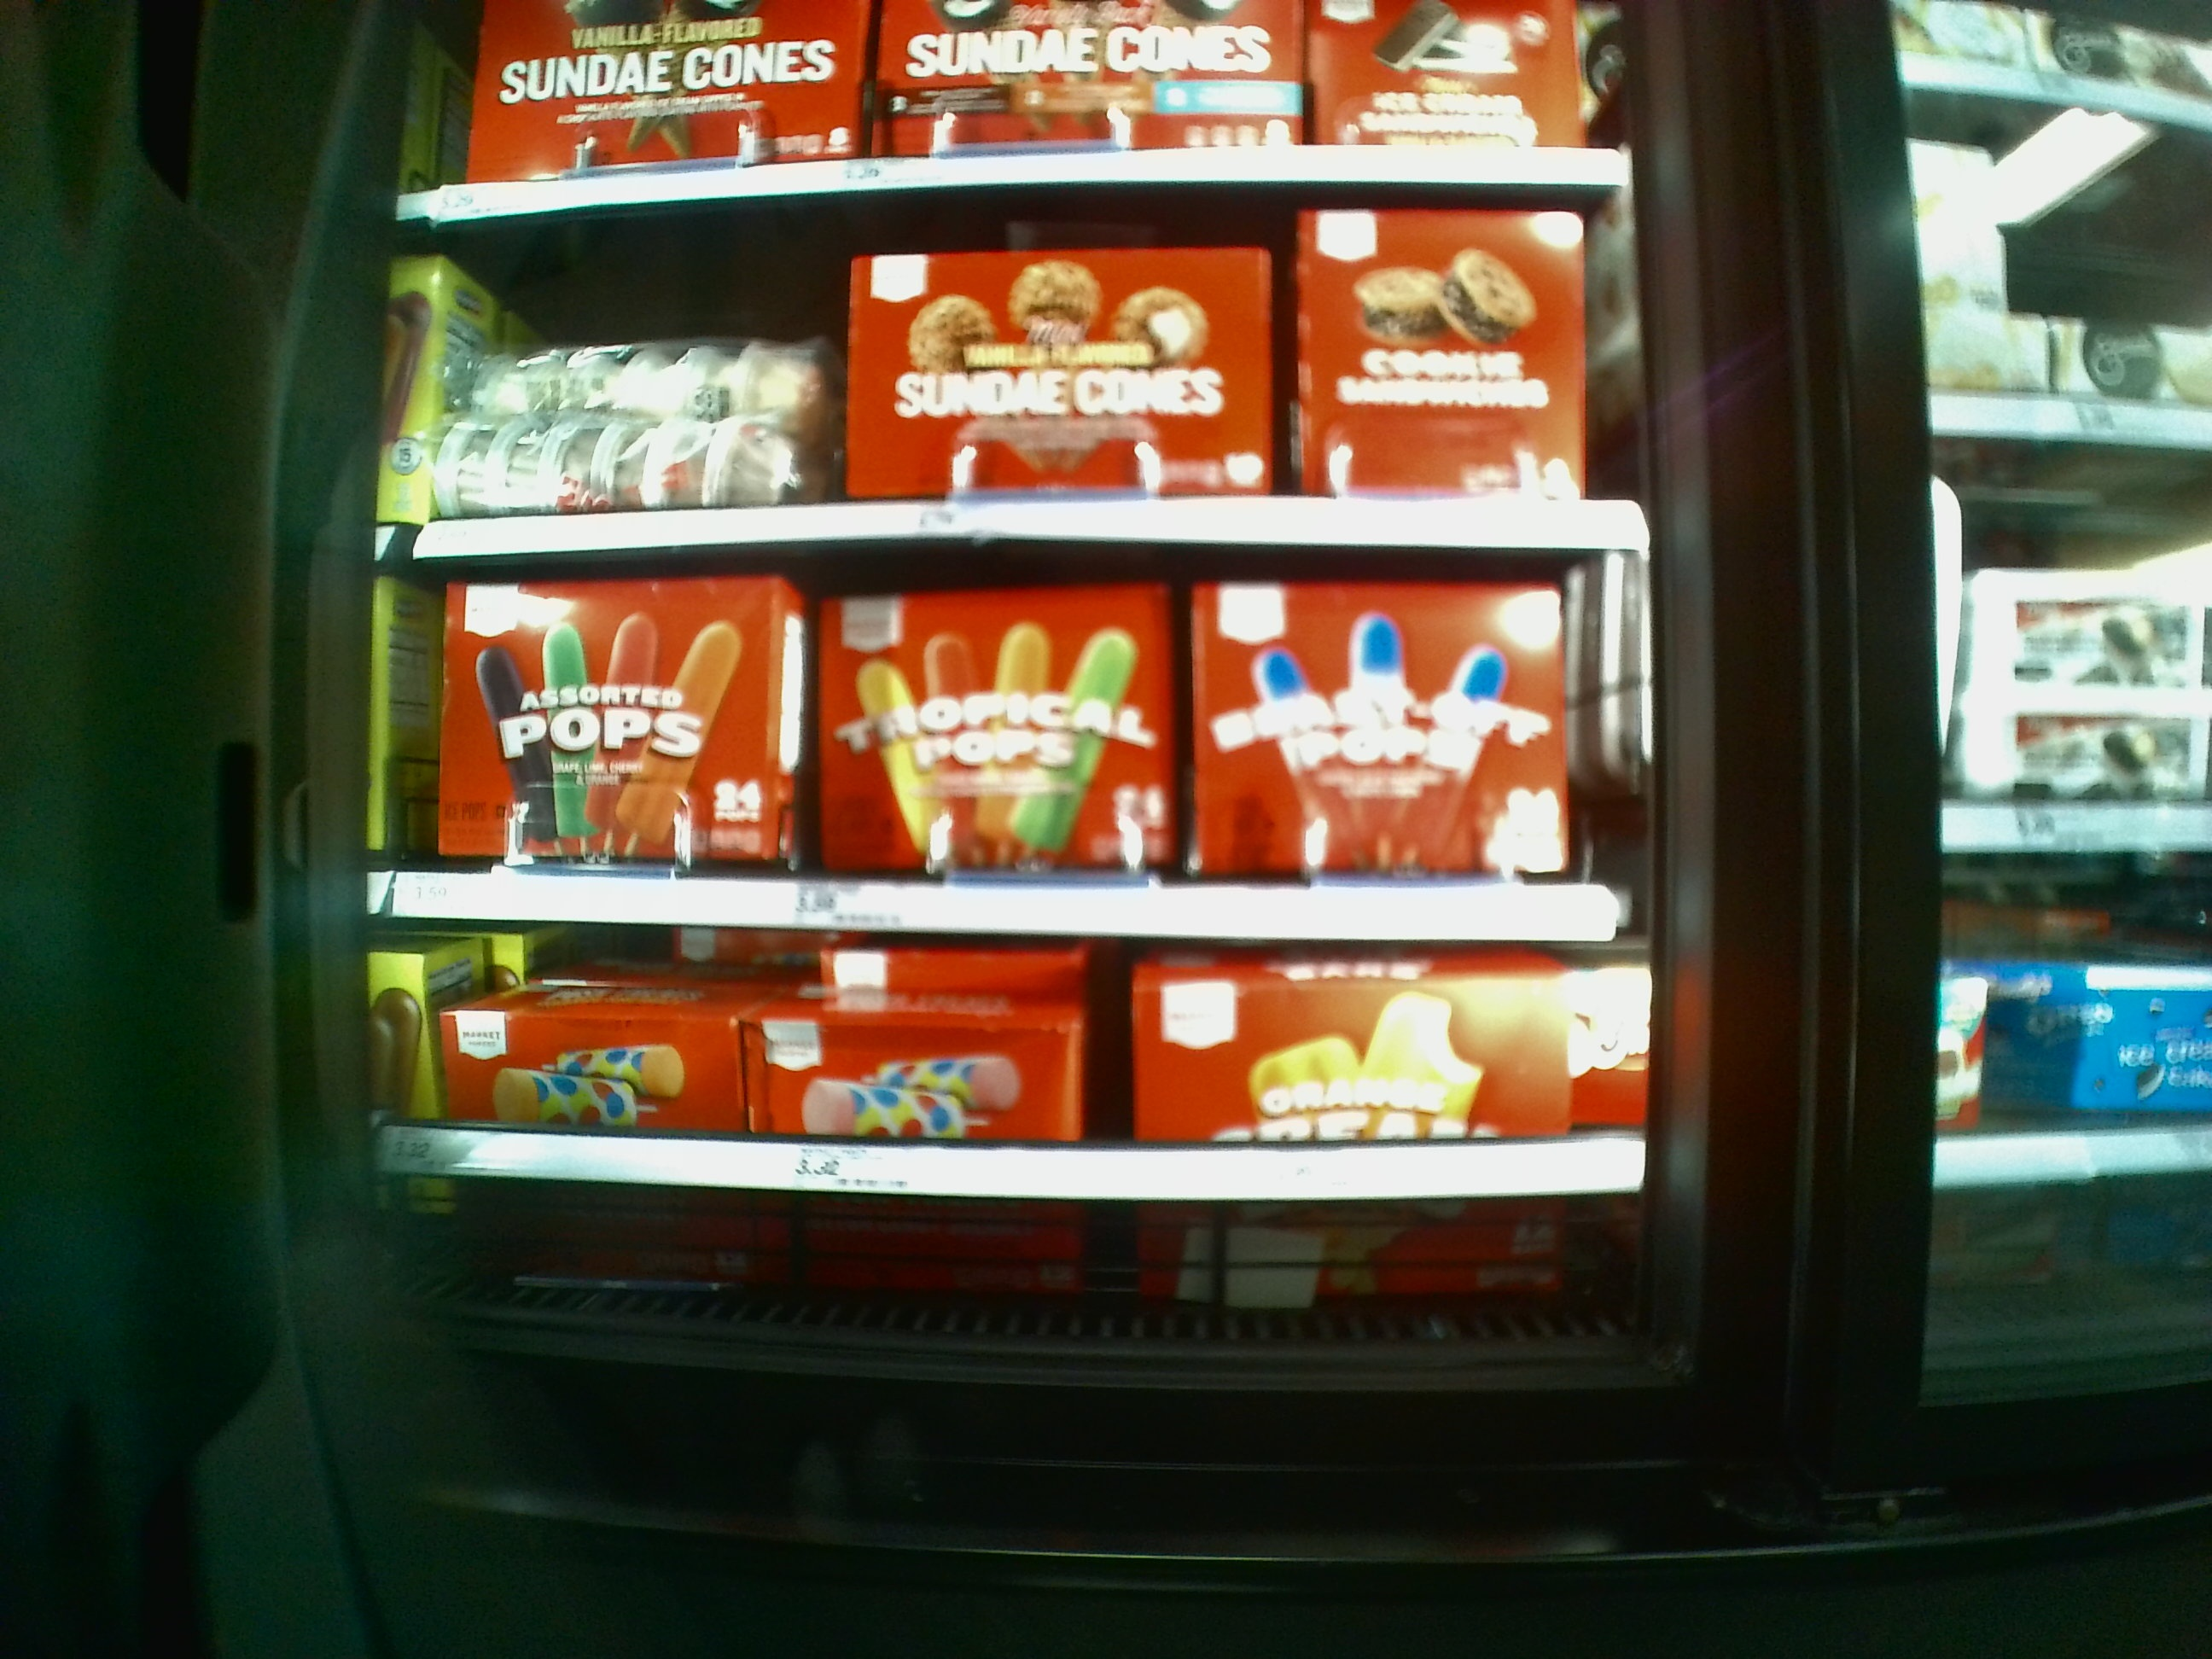shelf: (388, 915, 1656, 1314), (408, 558, 1622, 946), (425, 197, 1635, 561)
